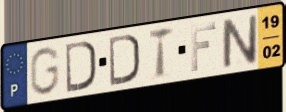D: (107, 32, 142, 88), (64, 39, 98, 95)
F: (189, 21, 218, 74)
G: (28, 45, 62, 97)
N: (219, 13, 259, 71)
T: (147, 24, 175, 81)
